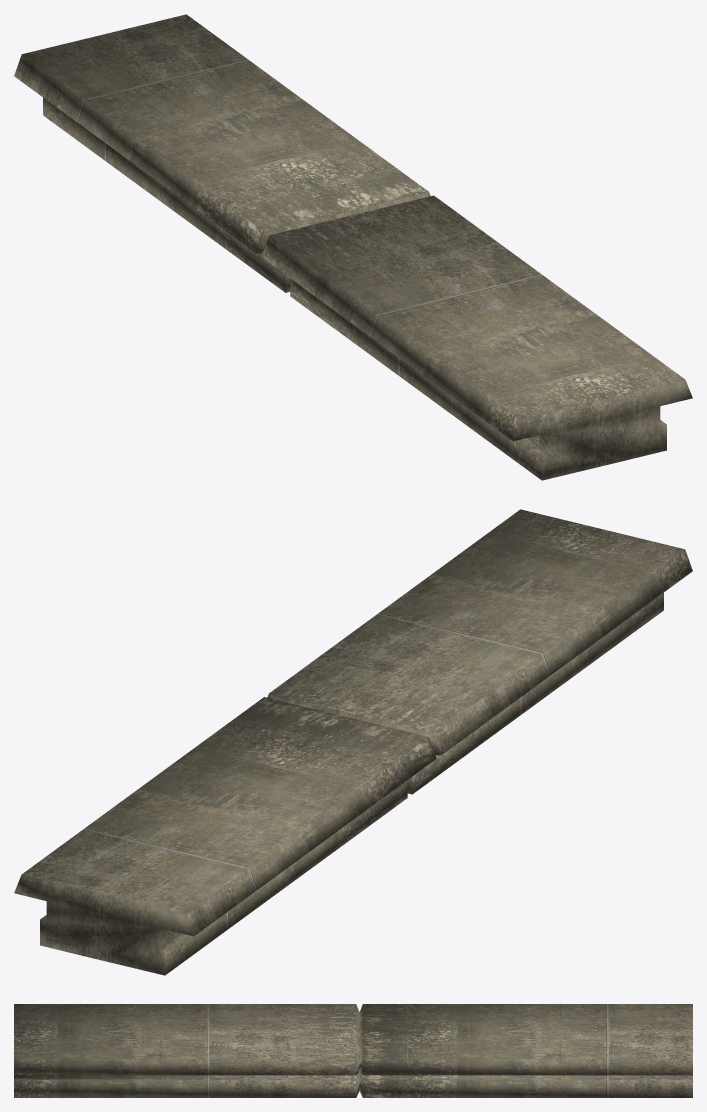
Rendered from Ruin_Rail.glb.
The picture shows the model from 3 angles, top to bottom: view 1: azimuth 30°, elevation 25°; view 2: azimuth 150°, elevation 25°; view 3: azimuth 270°, elevation 25°; orthographic projection. The views are drawn at different scales.
Visible parts, largest first — view 1: geom-RomanRailOne200; view 2: geom-RomanRailOne200; view 3: geom-RomanRailOne200.
Boxes of the visible parts, x1=… form: geom-RomanRailOne200: x1=14, y1=14, x2=692, y2=480; geom-RomanRailOne200: x1=14, y1=509, x2=692, y2=975; geom-RomanRailOne200: x1=14, y1=1004, x2=692, y2=1097.
Bounding box in the file's own units: 1.04 × 0.3684 × 5.
Materials: 1 (1 with a texture image).
